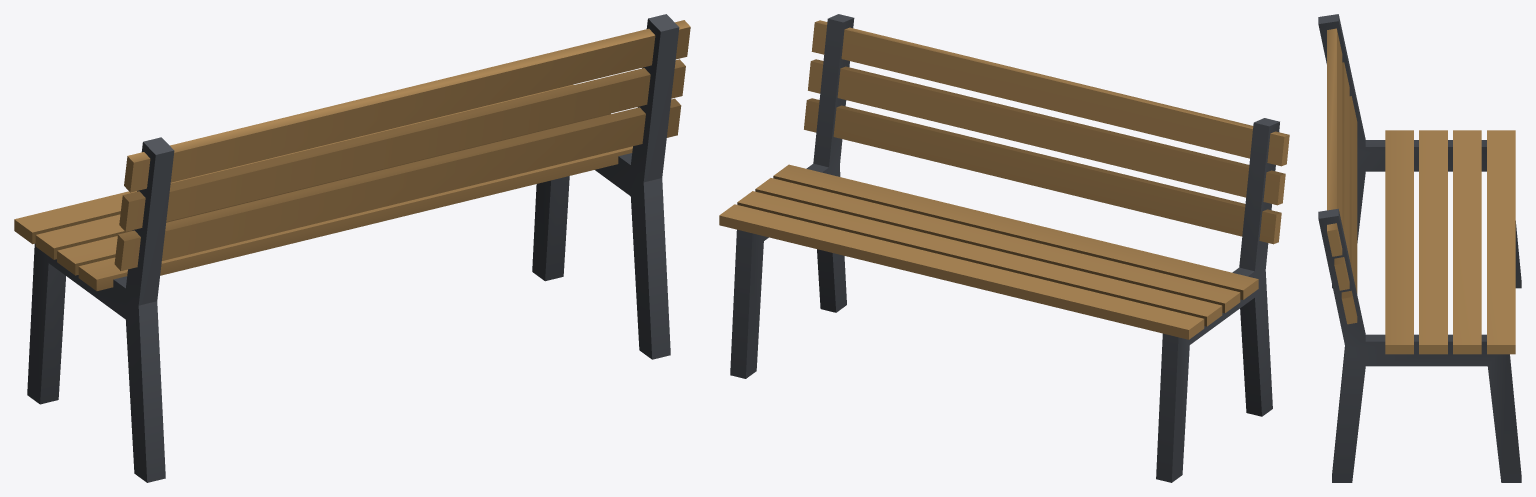
The model's file is bench_street_01.glb.
3 renders of one model, left to right at view 1: azimuth 30°, elevation 25°; view 2: azimuth 150°, elevation 25°; view 3: azimuth 270°, elevation 25°, orthographic. The views are drawn at different scales.
Parts seen in each view (by area): view 1: bench_street_01_mesh; view 2: bench_street_01_mesh; view 3: bench_street_01_mesh.
Boxes of the visible parts, box(x1,y1,x2,y2) form: bench_street_01_mesh: box(14, 14, 690, 482); bench_street_01_mesh: box(719, 14, 1289, 482); bench_street_01_mesh: box(1318, 14, 1521, 482).
Size of the model in its own units: 1.5 by 0.8701 by 0.5999.
Materials: 1 (1 with a texture image).
